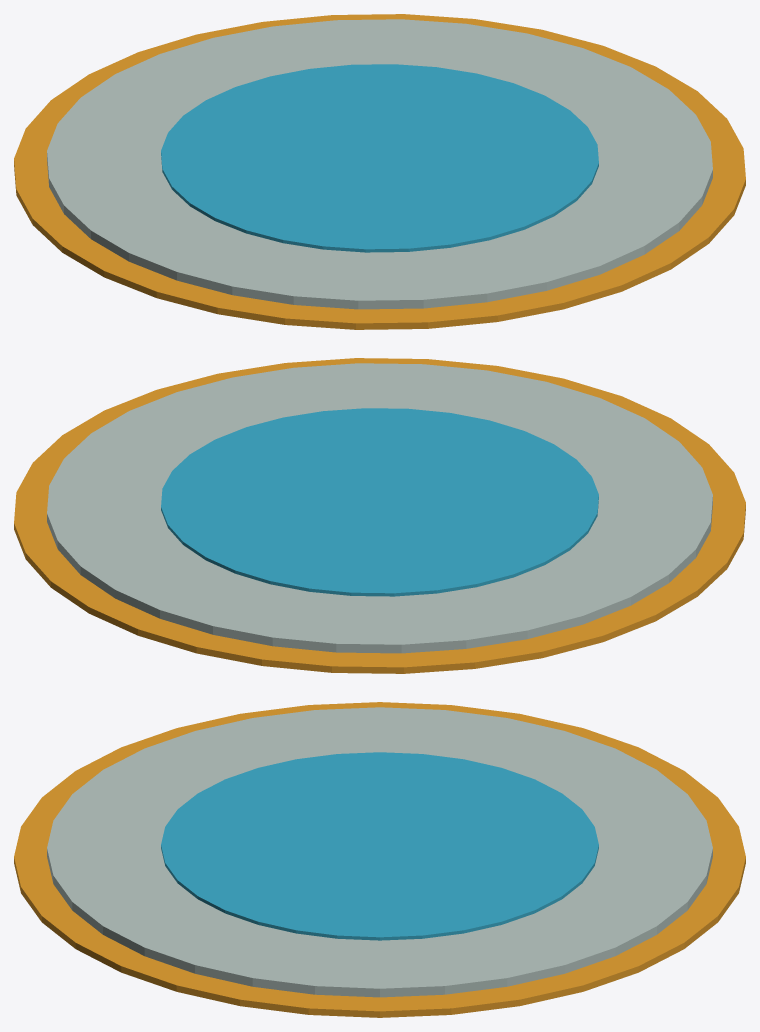
Rendered from stage_select_gate_pad.obj.
3 views of the same model, one above another, from view 1: azimuth 30°, elevation 25°; view 2: azimuth 150°, elevation 25°; view 3: azimuth 270°, elevation 25° (orthographic).
Parts seen in each view (by area): view 1: stage_select_gate_pad; view 2: stage_select_gate_pad; view 3: stage_select_gate_pad.
Boxes of the visible parts, <box> form: stage_select_gate_pad: <box>14,14,745,329</box>; stage_select_gate_pad: <box>14,358,745,673</box>; stage_select_gate_pad: <box>14,702,745,1017</box>.
Bounding box in the file's own units: 12.2 × 0.34 × 12.2.
